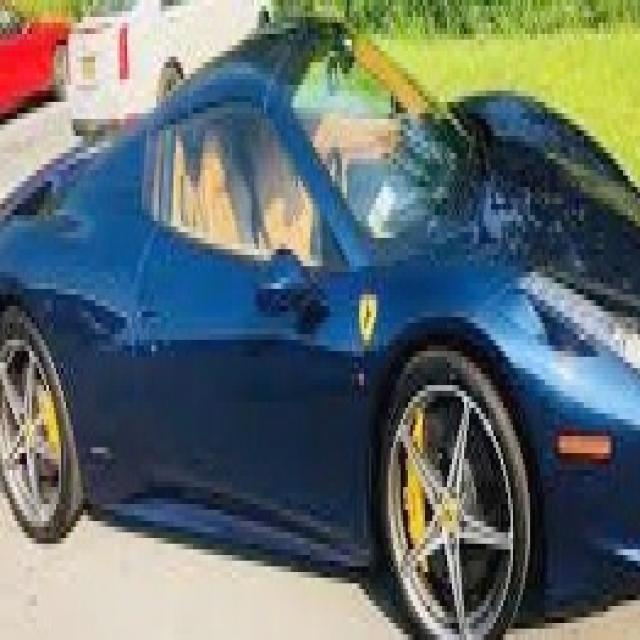blue: (2, 11, 638, 640)
